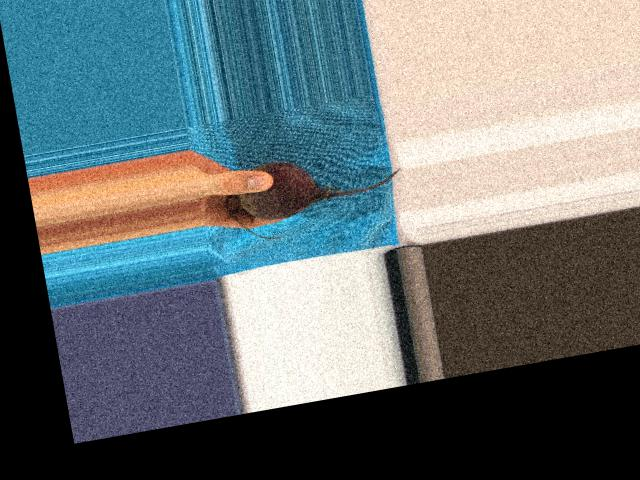beet: (220, 140, 409, 245)
